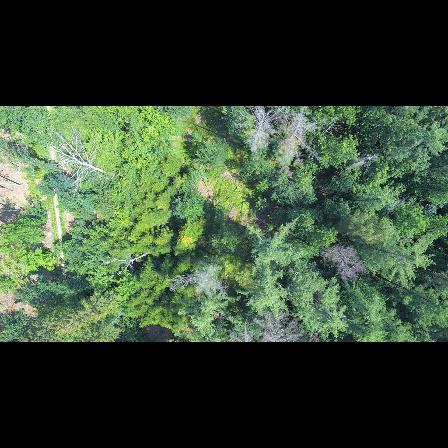Dead: (57, 132, 111, 190), (227, 309, 319, 341), (279, 109, 323, 163), (237, 106, 279, 161), (168, 262, 226, 300), (317, 239, 367, 281), (341, 148, 380, 179)
